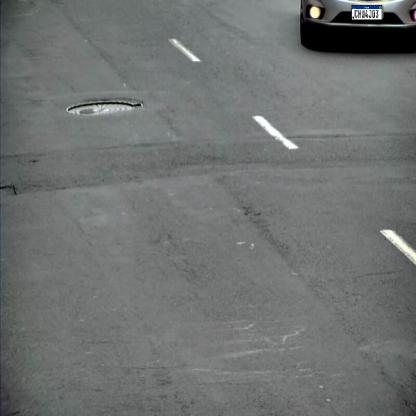PlacaM: (352, 5, 382, 20)
